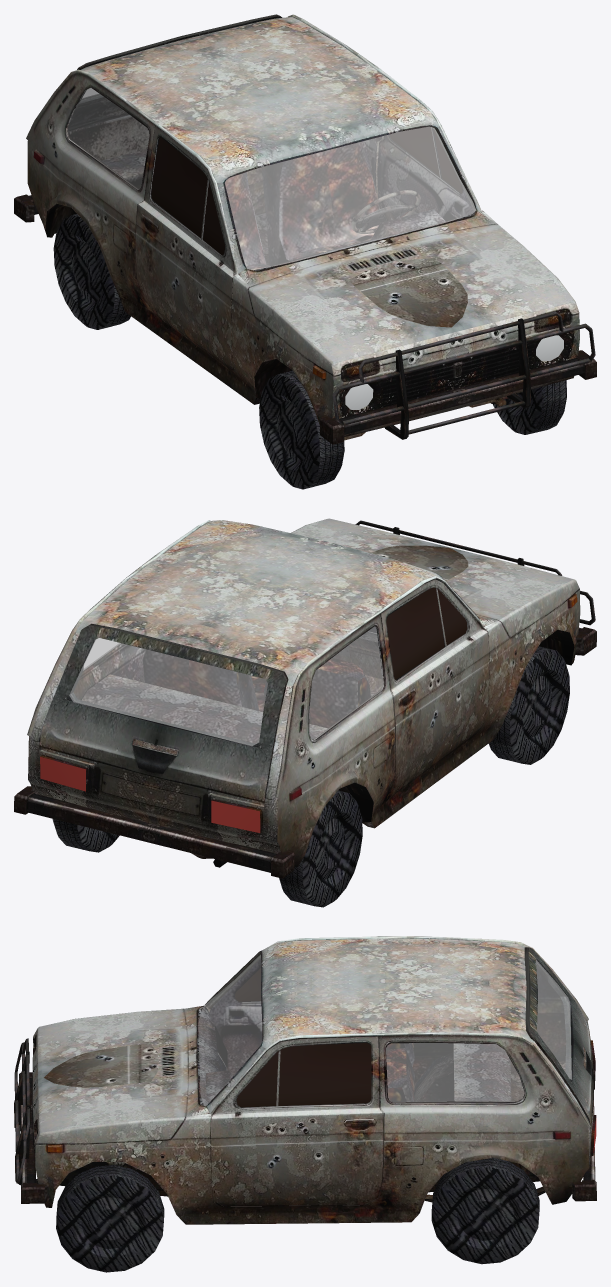
File: carro-karin.glb
3 renders of one model, top to bottom at view 1: azimuth 30°, elevation 25°; view 2: azimuth 150°, elevation 25°; view 3: azimuth 270°, elevation 25°, orthographic. The views are drawn at different scales.
Visible parts, largest first — view 1: body, wheel_FR, wheel_RR, wheel_FL; view 2: body, wheel_FR, wheel_RR, wheel_RL; view 3: body, wheel_FL, wheel_RL.
Part boxes in pixels (bbox=[...]): body: bbox=[14, 14, 596, 444]; wheel_FR: bbox=[259, 370, 344, 489]; wheel_RR: bbox=[53, 214, 130, 329]; wheel_FL: bbox=[493, 380, 566, 434]; body: bbox=[14, 518, 596, 878]; wheel_FR: bbox=[488, 646, 569, 764]; wheel_RR: bbox=[279, 790, 362, 907]; wheel_RL: bbox=[52, 819, 119, 852]; body: bbox=[14, 936, 596, 1224]; wheel_FL: bbox=[56, 1165, 164, 1272]; wheel_RL: bbox=[431, 1157, 539, 1264].
Bounding box in the file's own units: 2.09 × 1.92 × 4.28.
Materials: 6 (2 with a texture image).
